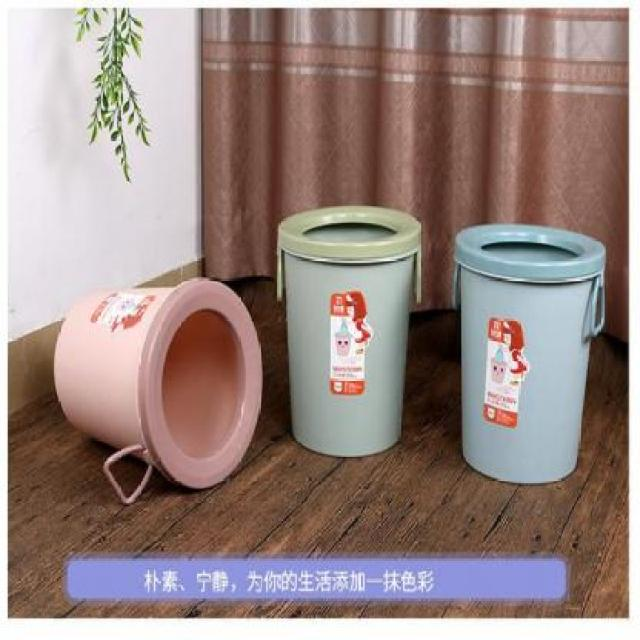dustbin: (49, 271, 266, 509), (449, 220, 609, 489), (272, 202, 426, 460)
